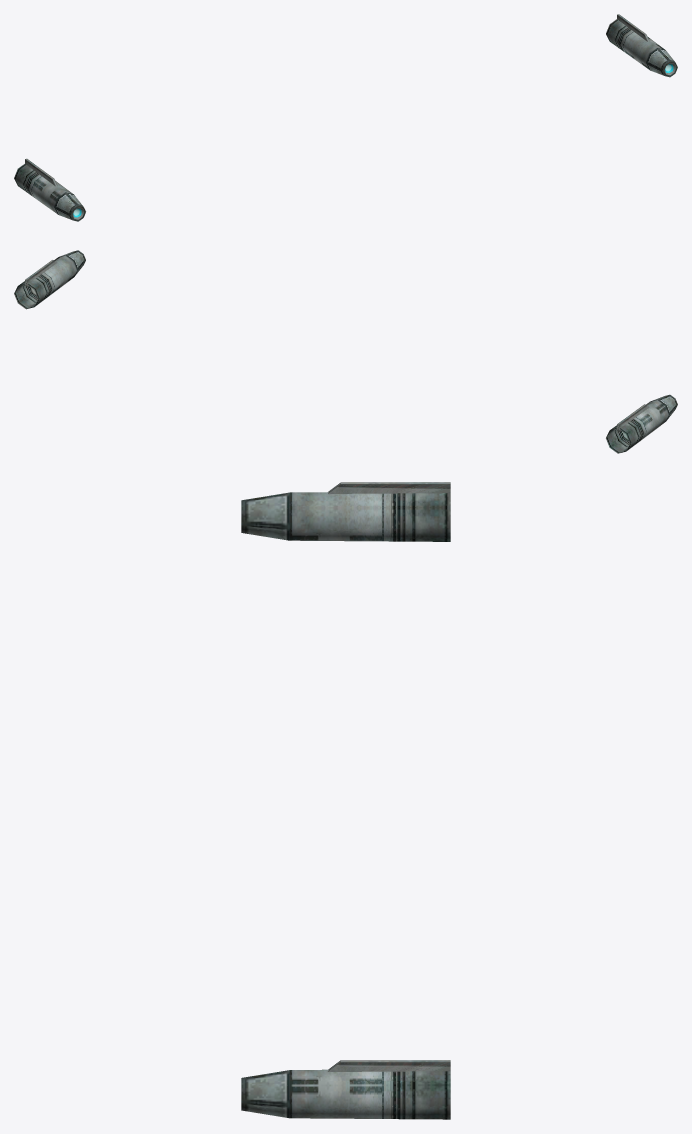
The model's file is black_sun_fighter_light_weapon_s02_l0.fbx.
3 views of the same model, one above another, from view 1: azimuth 30°, elevation 25°; view 2: azimuth 150°, elevation 25°; view 3: azimuth 270°, elevation 25° (orthographic). The views are drawn at different scales.
Visible parts, largest first — view 1: mesh_node; view 2: mesh_node; view 3: mesh_node.
Part boxes in pixels (bbox=[...]): mesh_node: bbox=[14, 14, 677, 221]; mesh_node: bbox=[14, 250, 677, 453]; mesh_node: bbox=[241, 482, 450, 1119].
Bounding box in the file's own units: 11.47 × 0.5192 × 1.69.
1 material, 1 textured.
